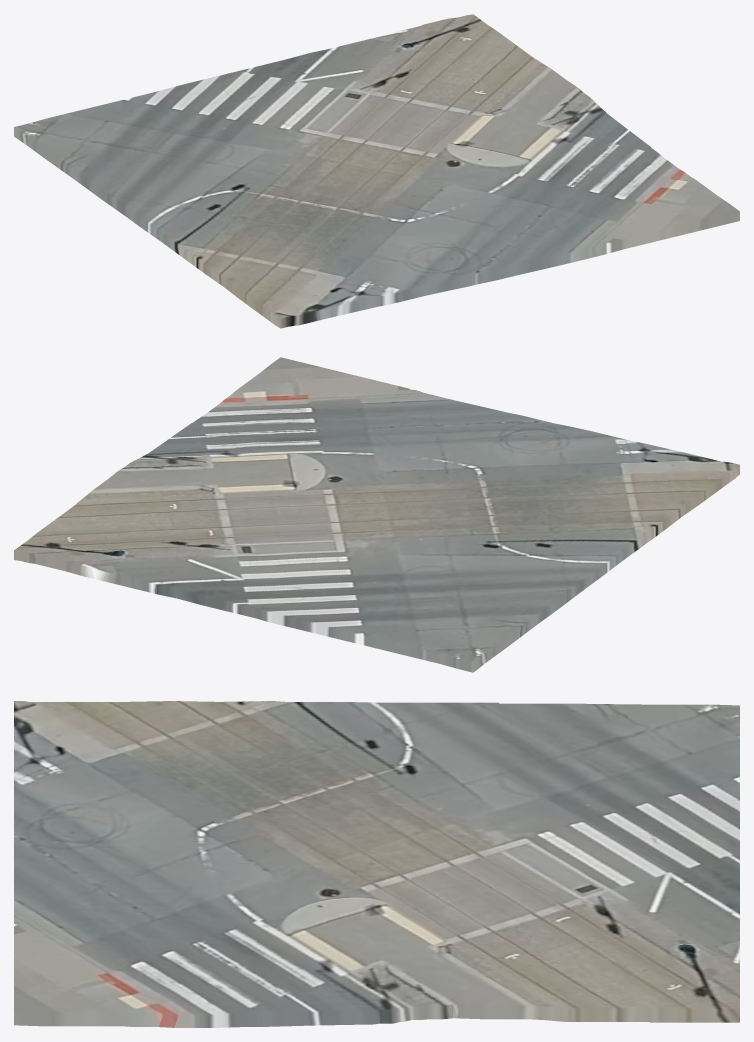
The model's file is z20-167774-405200-h0-yup-uvflip-v3-world.glb.
3 renders of one model, top to bottom at view 1: azimuth 30°, elevation 25°; view 2: azimuth 150°, elevation 25°; view 3: azimuth 270°, elevation 25°, orthographic. The views are drawn at different scales.
Size of the model in its own units: 30.16 by 1.16 by 30.32.
Materials: 1 (1 with a texture image).
